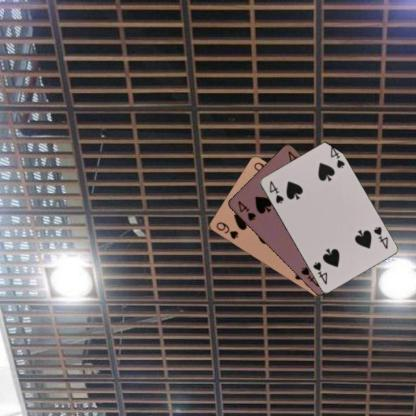4s: (235, 197, 257, 222), (266, 178, 285, 204), (371, 224, 389, 250)
9s: (213, 220, 239, 240)
